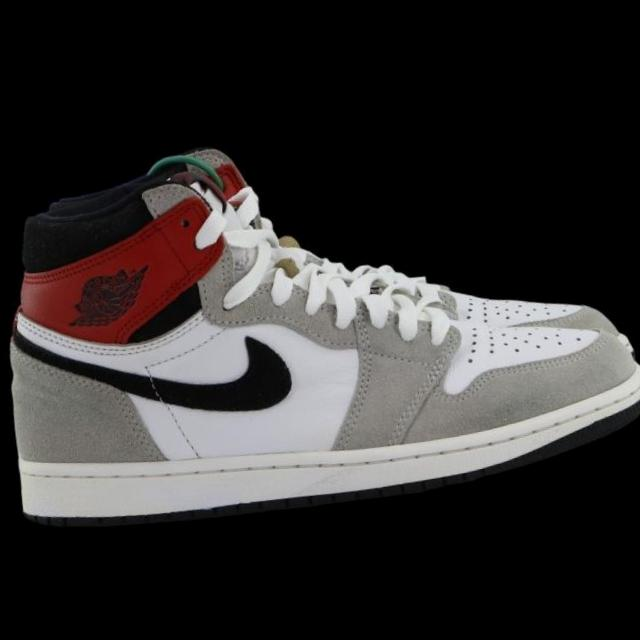nike_original_jordan: (0, 119, 640, 538), (148, 100, 634, 412)
